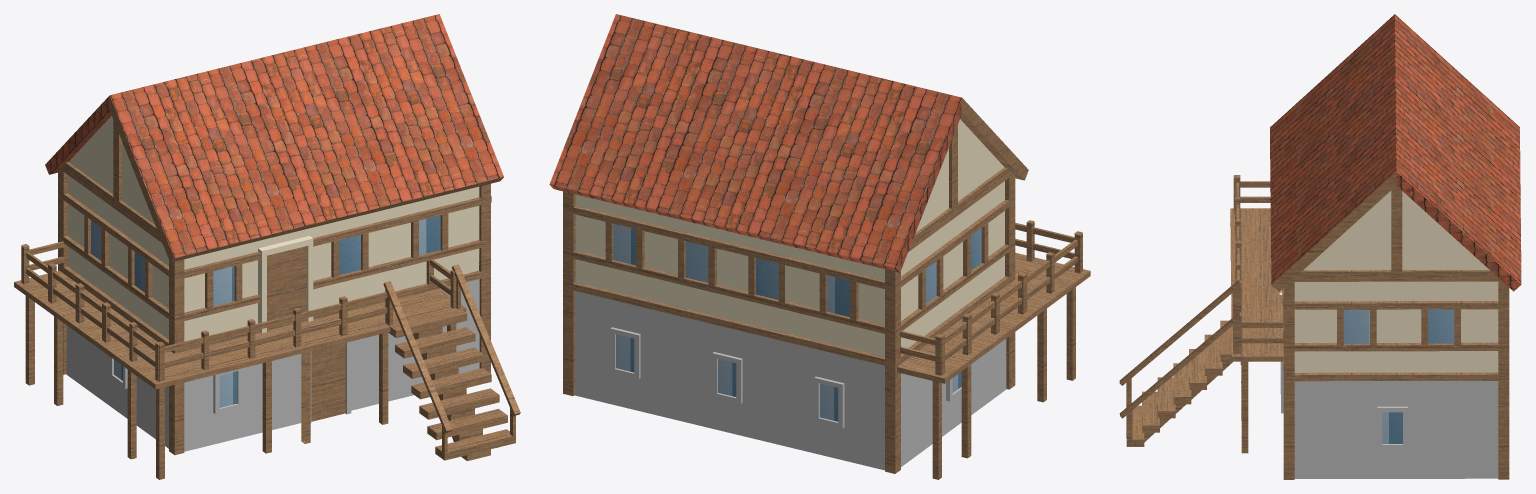
The model's file is HouseWithBigPorch.fbx.
3 views of the same model, side by side, from view 1: azimuth 30°, elevation 25°; view 2: azimuth 150°, elevation 25°; view 3: azimuth 270°, elevation 25° (orthographic). The views are drawn at different scales.
Visible parts, largest first — view 1: mergedBlocks_wood(Clone)_0.1804, mergedBlocks_wood(Clone)_0.1798, mergedBlocks_wood(Clone)_0.1820, mergedBlocks_custom9(Clone)_0.741, mergedBlocks_custom10(Clone)_0.1289, mergedBlocks_woodLight(Clone)_0.101, mergedBlocks_custom9(Clone)_0.745, mergedBlocks_custom9(Clone)_0.739, mergedBlocks_woodLight(Clone)_0.075, mergedBlocks_custom10(Clone)_0.1203, mergedBlocks_woodLight(Clone)_0.063, mergedBlocks_custom9(Clone)_0.451 (+39 smaller); view 2: mergedBlocks_custom10(Clone)_0.1204, mergedBlocks_bricks(Clone)_0.280, mergedBlocks_bricks(Clone)_0.267, mergedBlocks_bricks(Clone)_0.276, mergedBlocks_custom9(Clone)_0.746, mergedBlocks_custom9(Clone)_0.739, mergedBlocks_custom10(Clone)_0.1203, mergedBlocks_custom9(Clone)_0.745, mergedBlocks_woodLight(Clone)_0.101, mergedBlocks_wood(Clone)_0.3467, mergedBlocks_wood(Clone)_0.1835, mergedBlocks_wood(Clone)_0.1813 (+29 smaller); view 3: mergedBlocks_custom10(Clone)_0.1206, mergedBlocks_custom10(Clone)_0.1290, mergedBlocks_wood(Clone)_0.1804, mergedBlocks_bricks(Clone)_0.267, mergedBlocks_bricks(Clone)_0.280, mergedBlocks_wood(Clone)_0.1820, mergedBlocks_custom9(Clone)_0.742, mergedBlocks_custom9(Clone)_0.748, mergedBlocks_wood(Clone)_0.1798, mergedBlocks_bricks(Clone)_0.276, mergedBlocks_woodLight(Clone)_0.101, mergedBlocks_custom9(Clone)_0.444 (+27 smaller).
Boxes of the visible parts, x1,y1,x2,y2 form: mergedBlocks_wood(Clone)_0.1804: [109, 67, 290, 258]; mergedBlocks_wood(Clone)_0.1798: [226, 38, 406, 229]; mergedBlocks_wood(Clone)_0.1820: [342, 14, 503, 205]; mergedBlocks_custom9(Clone)_0.741: [184, 186, 479, 341]; mergedBlocks_custom10(Clone)_0.1289: [184, 279, 479, 451]; mergedBlocks_woodLight(Clone)_0.101: [71, 302, 417, 384]; mergedBlocks_custom9(Clone)_0.745: [67, 175, 120, 303]; mergedBlocks_custom9(Clone)_0.739: [120, 213, 168, 339]; mergedBlocks_woodLight(Clone)_0.075: [267, 246, 306, 330]; mergedBlocks_custom10(Clone)_0.1203: [66, 325, 119, 412]; mergedBlocks_woodLight(Clone)_0.063: [311, 343, 345, 421]; mergedBlocks_custom9(Clone)_0.451: [69, 115, 113, 193]; mergedBlocks_custom10(Clone)_0.1204: [574, 291, 884, 470]; mergedBlocks_bricks(Clone)_0.280: [774, 68, 962, 268]; mergedBlocks_bricks(Clone)_0.267: [549, 14, 737, 213]; mergedBlocks_bricks(Clone)_0.276: [652, 39, 839, 238]; mergedBlocks_custom9(Clone)_0.746: [575, 194, 884, 356]; mergedBlocks_custom9(Clone)_0.739: [951, 181, 1004, 315]; mergedBlocks_custom10(Clone)_0.1203: [901, 373, 952, 466]; mergedBlocks_custom9(Clone)_0.745: [901, 221, 950, 347]; mergedBlocks_woodLight(Clone)_0.101: [955, 252, 1089, 335]; mergedBlocks_wood(Clone)_0.3467: [569, 283, 888, 365]; mergedBlocks_wood(Clone)_0.1835: [885, 269, 895, 473]; mergedBlocks_wood(Clone)_0.1813: [563, 191, 573, 395]; mergedBlocks_custom10(Clone)_0.1206: [1396, 381, 1498, 478]; mergedBlocks_custom10(Clone)_0.1290: [1294, 381, 1396, 478]; mergedBlocks_wood(Clone)_0.1804: [1270, 14, 1395, 182]; mergedBlocks_bricks(Clone)_0.267: [1396, 116, 1521, 283]; mergedBlocks_bricks(Clone)_0.280: [1394, 14, 1520, 181]; mergedBlocks_wood(Clone)_0.1820: [1271, 116, 1396, 284]; mergedBlocks_custom9(Clone)_0.742: [1294, 281, 1396, 372]; mergedBlocks_custom9(Clone)_0.748: [1396, 281, 1498, 372]; mergedBlocks_wood(Clone)_0.1798: [1270, 70, 1395, 238]; mergedBlocks_bricks(Clone)_0.276: [1395, 70, 1520, 228]; mergedBlocks_woodLight(Clone)_0.101: [1230, 208, 1282, 333]; mergedBlocks_custom9(Clone)_0.444: [1303, 190, 1391, 270].
Size of the model in its own units: 381 by 314 by 367.
